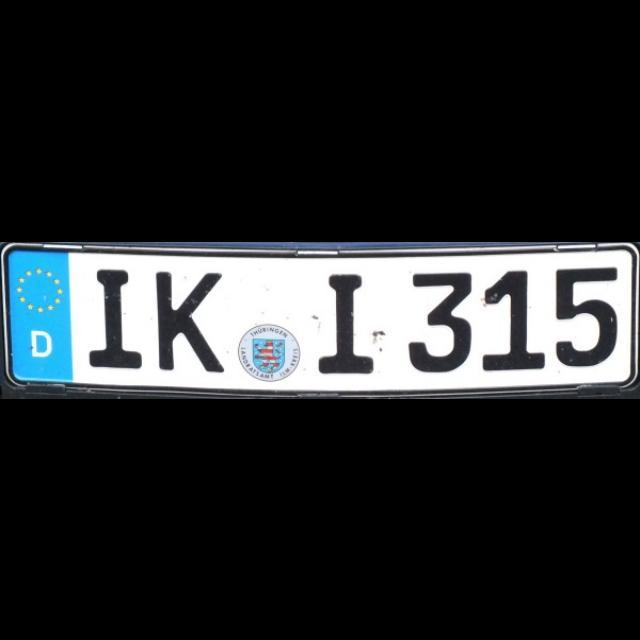license-plates: (0, 244, 640, 396)
